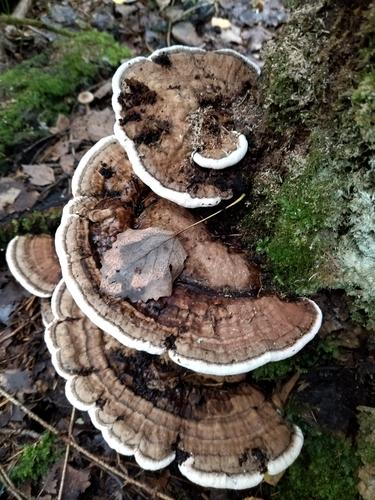Ganoderma - Fruit Body: (10, 197, 324, 379), (109, 45, 269, 205), (63, 383, 307, 485)
